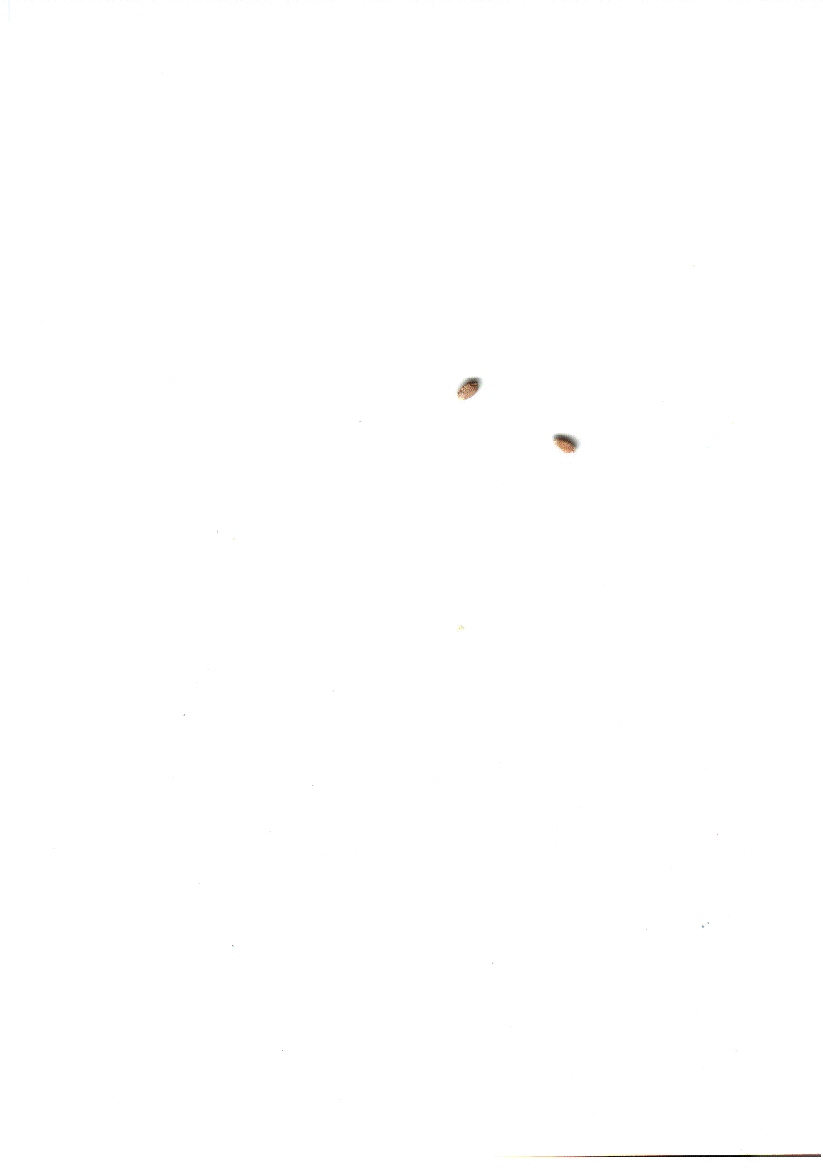grains: (529, 414, 605, 468), (438, 364, 497, 412)
